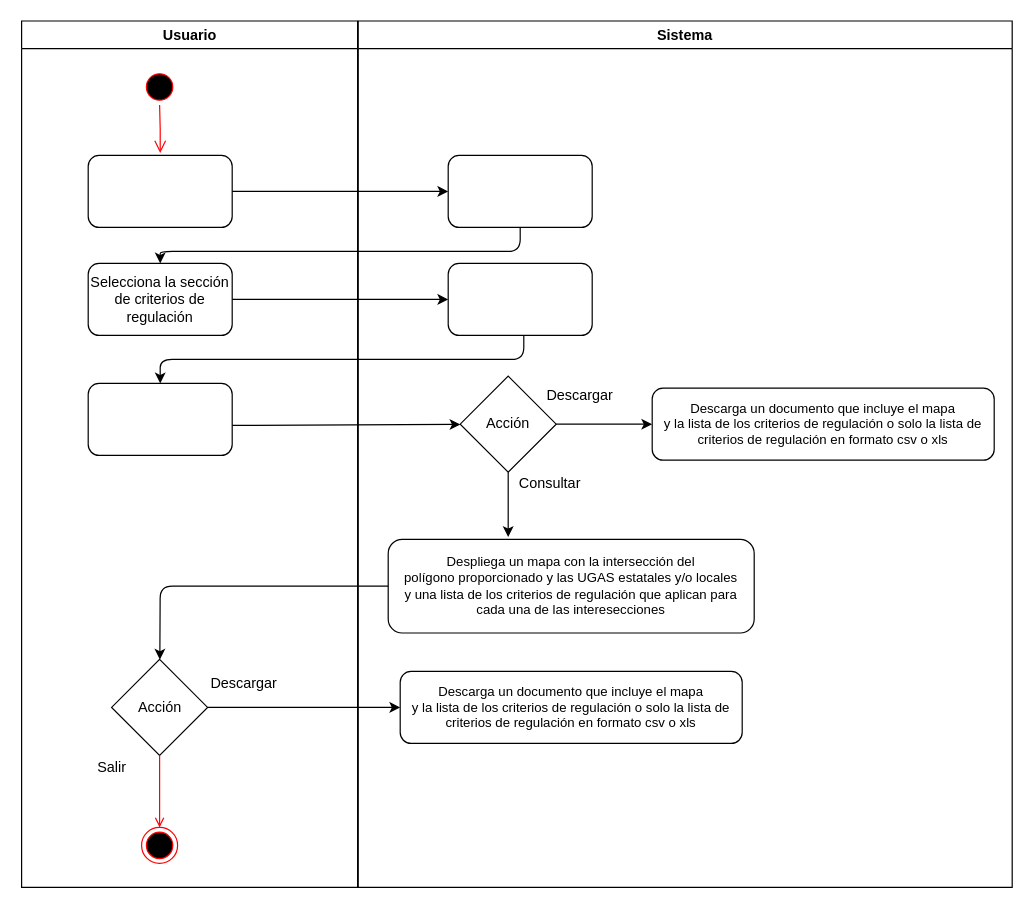
Some shapes in this 1033 by 908 pixel diagram are drawn without their labels. The centre of each missing label's shape, as x and y in pixels:
"Accede a la bitácora del ordenamiento" goes at (159,190).
"El sistema presenta la interfaz de la bitácora del ordenamiento" goes at (519,190).
"El sistema solicita que el usuario ingrese un polígono" goes at (519,298).
"Ingresa el polígono de interés en formato shapefile" goes at (159,418).
